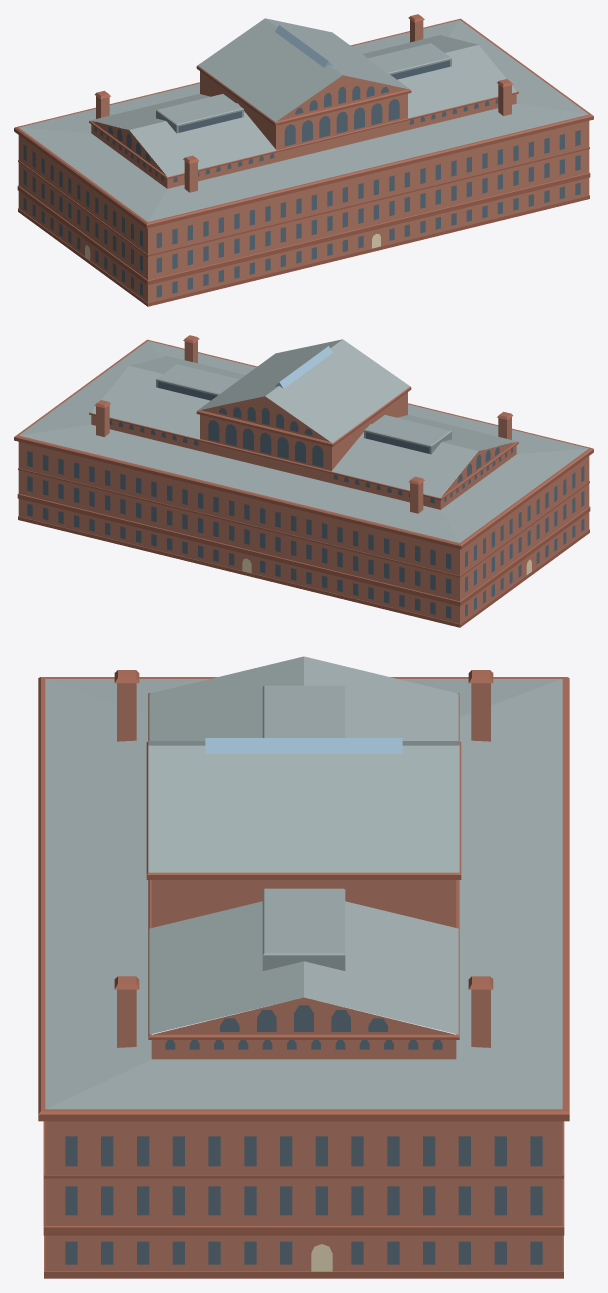
Rendered from detail.glb.
3 views of the same model, one above another, from view 1: azimuth 30°, elevation 25°; view 2: azimuth 150°, elevation 25°; view 3: azimuth 270°, elevation 25° (orthographic). The views are drawn at different scales.
Parts seen in each view (by area): view 1: national-building-museum; view 2: national-building-museum; view 3: national-building-museum.
Part boxes in pixels (<box>): national-building-museum: <box>14,14,593,306</box>; national-building-museum: <box>14,335,593,627</box>; national-building-museum: <box>38,656,569,1278</box>.
Size of the model in its own units: 125 by 43.5 by 64.5.
